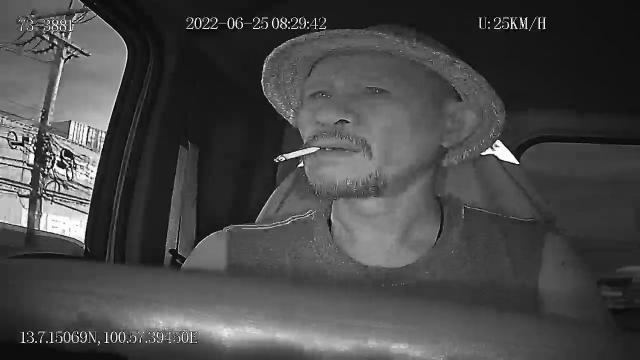SafeDriving: (352, 78, 394, 100), (304, 84, 336, 105)
Smoking: (273, 145, 323, 165)
